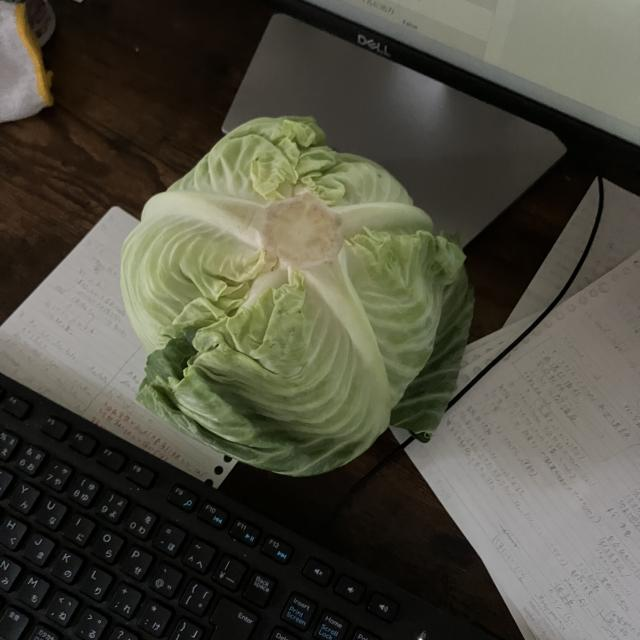cabbage: (118, 111, 480, 481)
